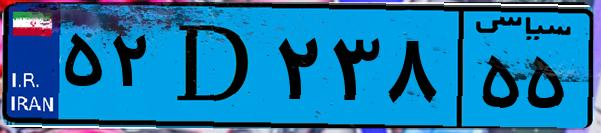2: (270, 28, 330, 110), (110, 28, 158, 98)
3: (330, 28, 385, 110)
5: (57, 26, 110, 100), (475, 38, 525, 113), (525, 38, 570, 115)
8: (385, 28, 445, 110)
D: (158, 12, 270, 120)
